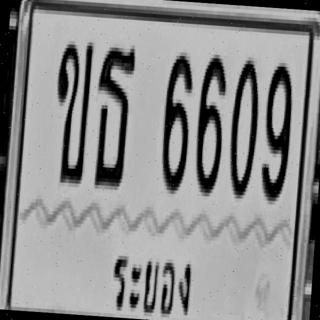A02: (46, 15, 102, 202)
A24: (82, 34, 137, 194)
N00: (226, 44, 269, 201)
N06: (154, 38, 200, 199), (192, 53, 230, 220)
N09: (256, 67, 298, 213)
P53: (91, 215, 196, 320)
